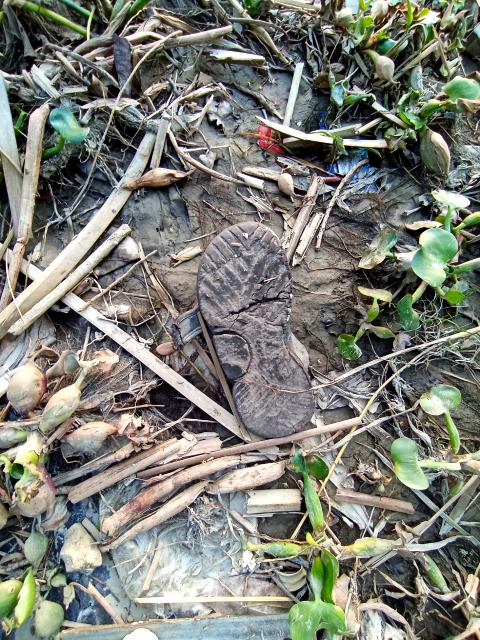sandal: (191, 214, 324, 468)
